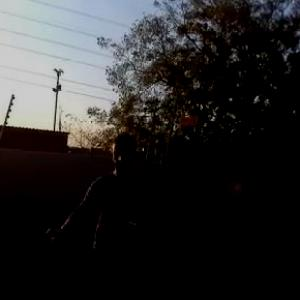follow: (38, 122, 158, 299)
